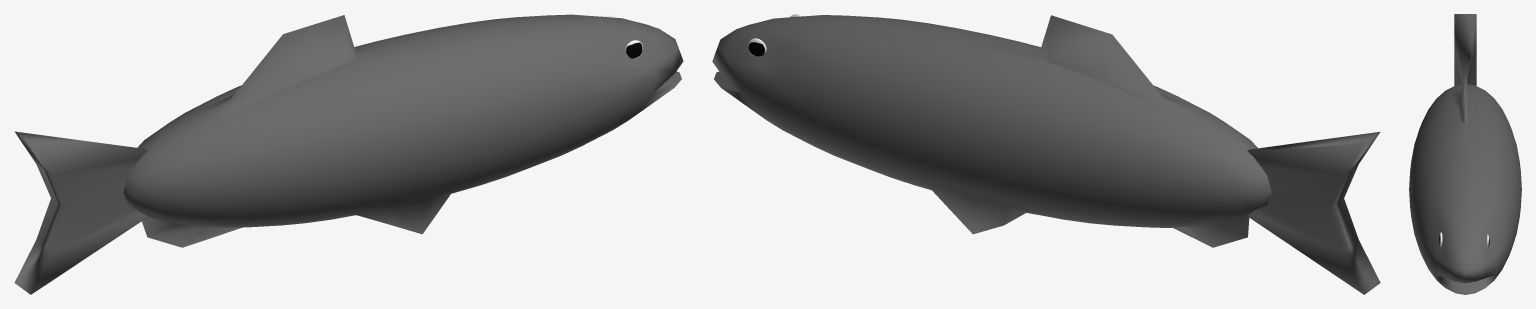
File: player.obj
3 views of the same model, side by side, from view 1: azimuth 30°, elevation 25°; view 2: azimuth 150°, elevation 25°; view 3: azimuth 270°, elevation 25° (orthographic). The views are drawn at different scales.
Parts seen in each view (by area): view 1: 球; view 2: 球; view 3: 球.
Boxes of the visible parts, bbox=[...] form: 球: bbox=[14, 14, 683, 294]; 球: bbox=[712, 14, 1380, 294]; 球: bbox=[1409, 14, 1521, 294].
Bounding box in the file's own units: 9.1 × 2.85 × 2.
